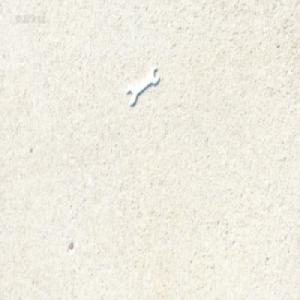Wrench: (127, 67, 159, 106)
